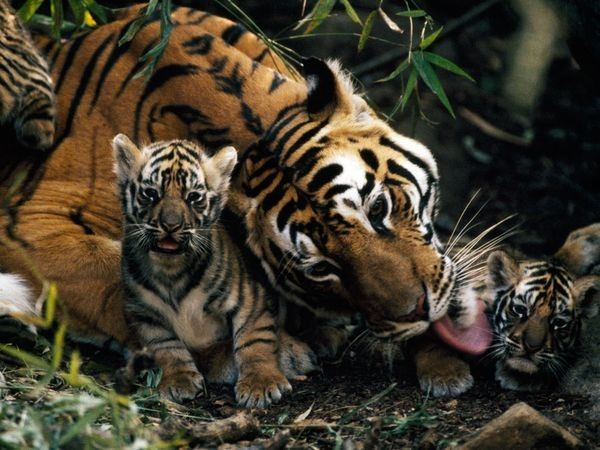Tigrew: (83, 23, 502, 340), (112, 111, 275, 356), (494, 240, 573, 397)
